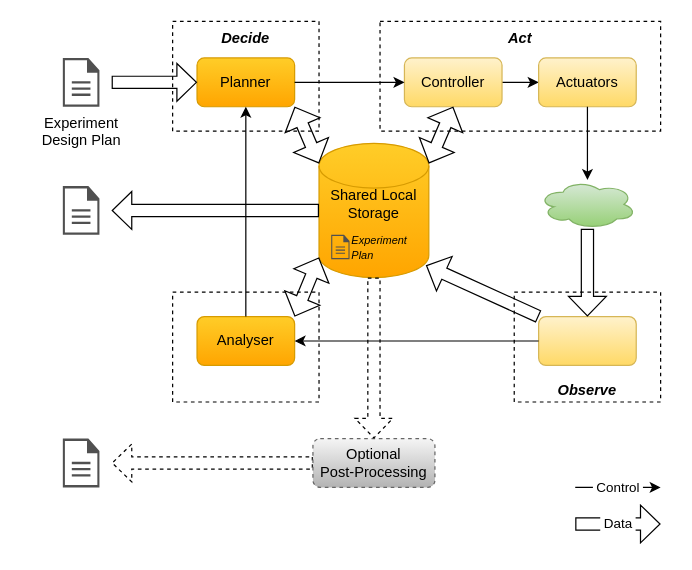
This 692x570 diagram has some shape labels left out. Here are the shapes that lost their labels. From the top down, the box of each, then its label:
(62, 185, 99, 234): Raw Experiment Result
(537, 179, 636, 229): Test
(171, 291, 319, 402): Orient
(537, 315, 636, 365): Sensors
(62, 438, 99, 487): Optional Post-Processed Experiment Result
